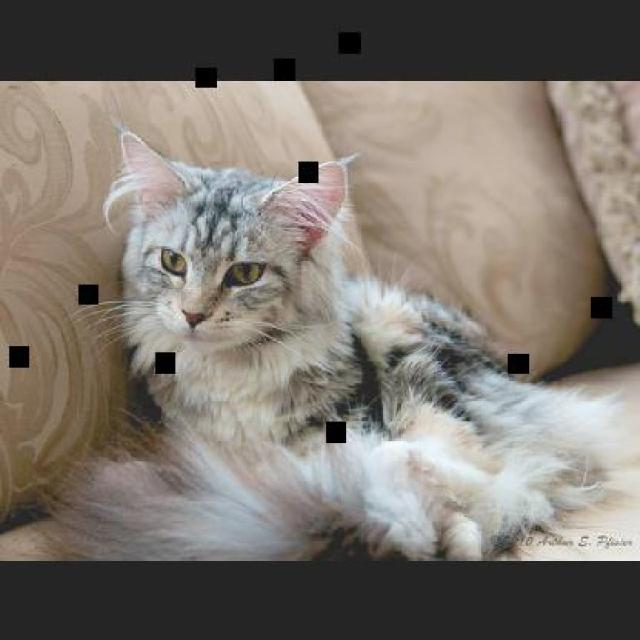unauthorized: (0, 122, 629, 560)
